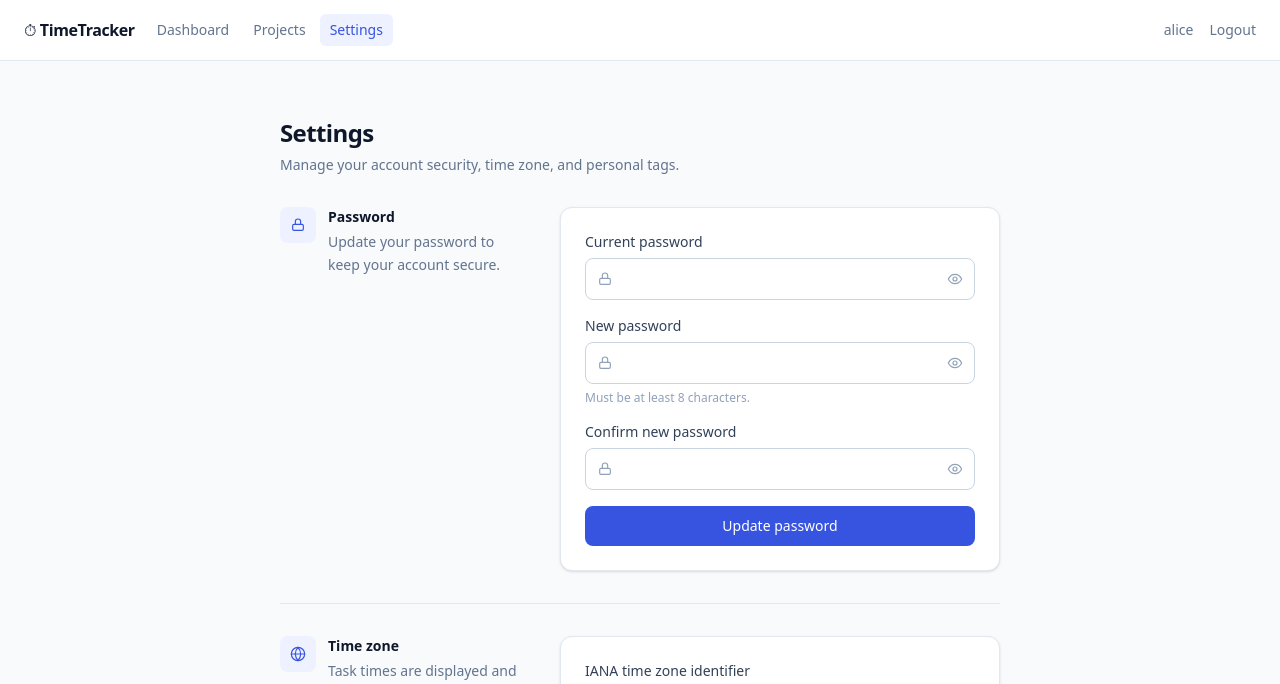
Test: SettingsPage › shows error when new passwords do not match
Type "oldpass1" into the password field with test id "current-password-input" at (780, 279), box left=585, top=258, right=975, bottom=300
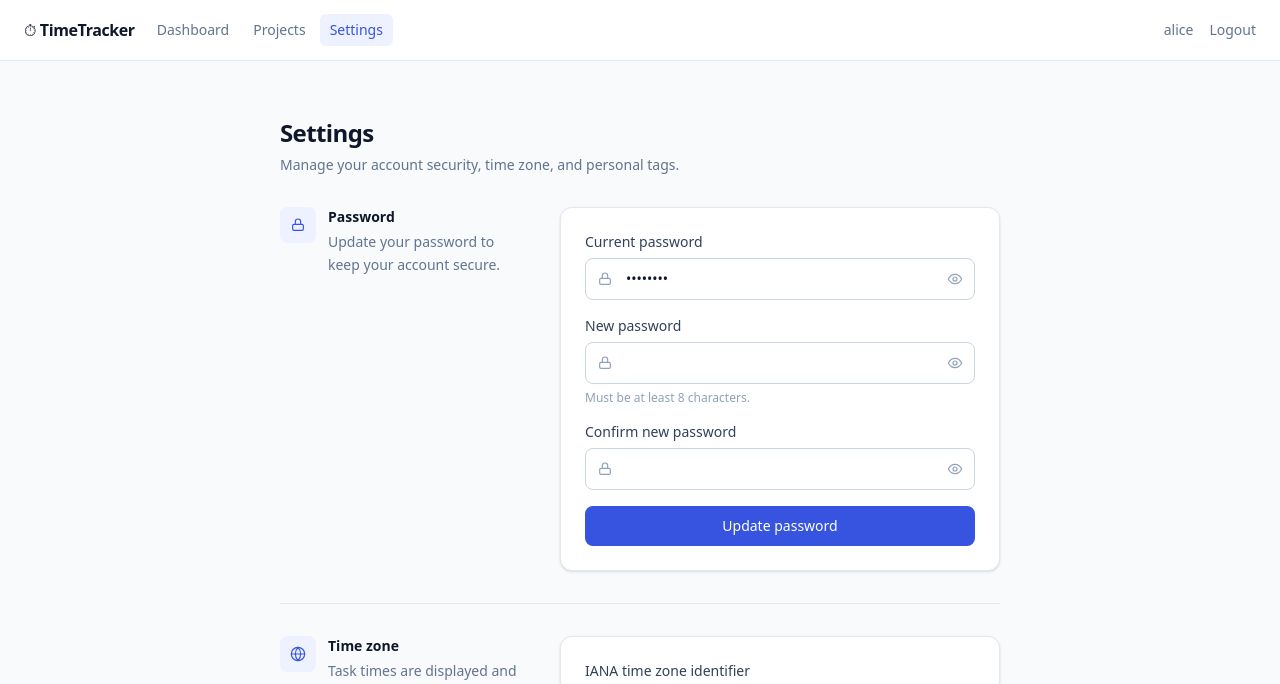
Type "newpass1" into the password field with test id "new-password-input" at (780, 363), box left=585, top=342, right=975, bottom=384
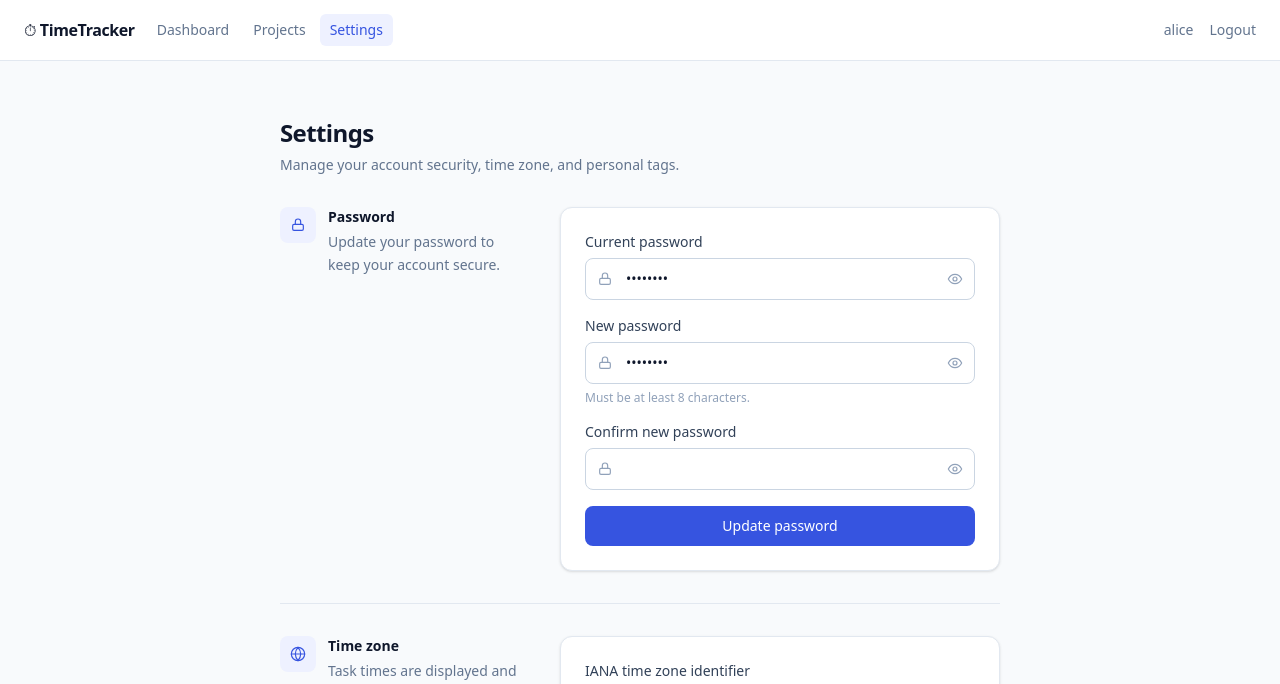
Type "different" into the password field with test id "confirm-password-input" at (780, 469), box left=585, top=448, right=975, bottom=490
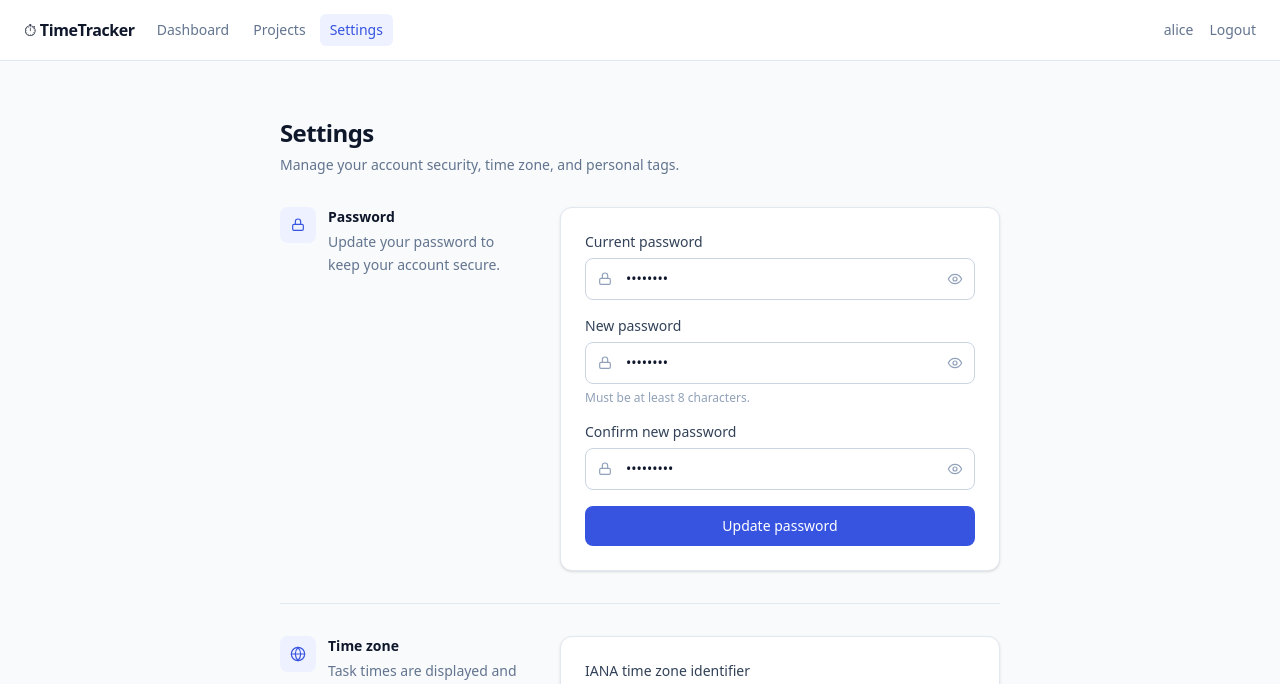
Submit the form with test id "change-password-form", box left=585, top=232, right=975, bottom=546
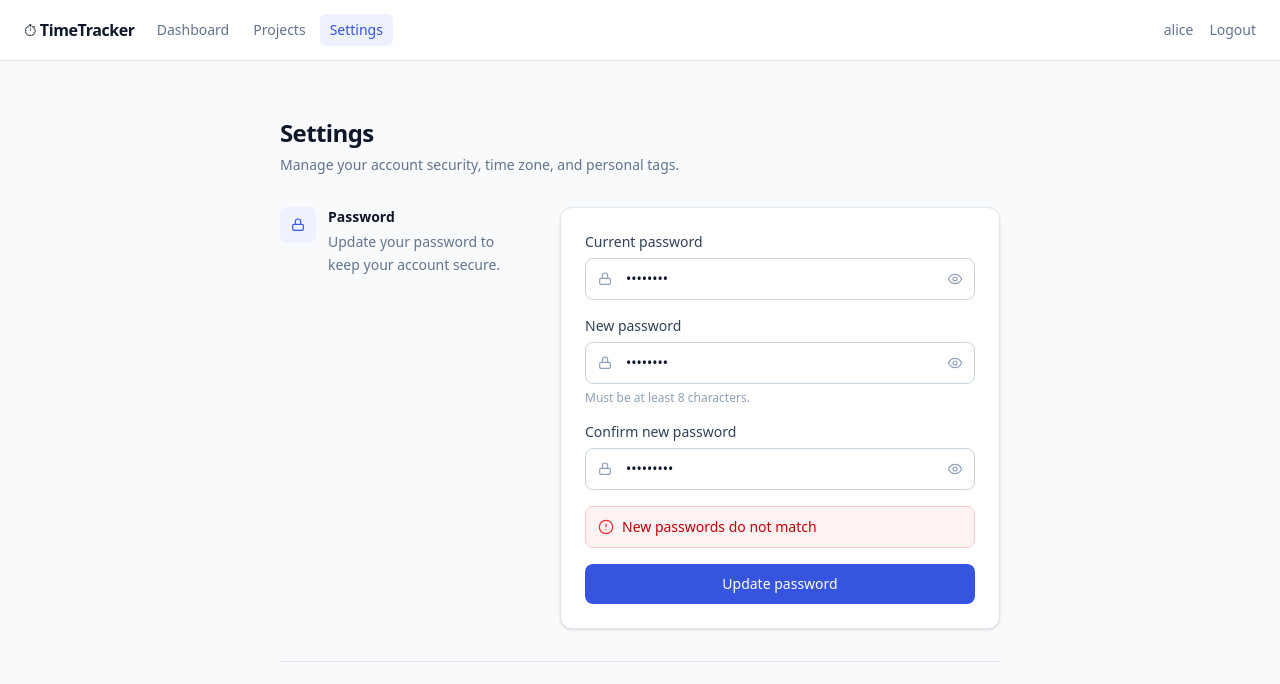
expect the text with test id "settings-error" shows "do not match": met, box left=622, top=517, right=817, bottom=536
